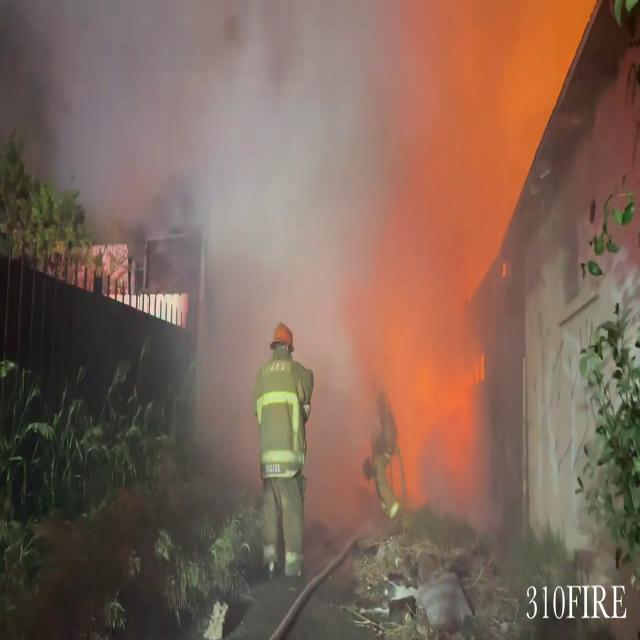Smoke: (39, 0, 579, 511)
